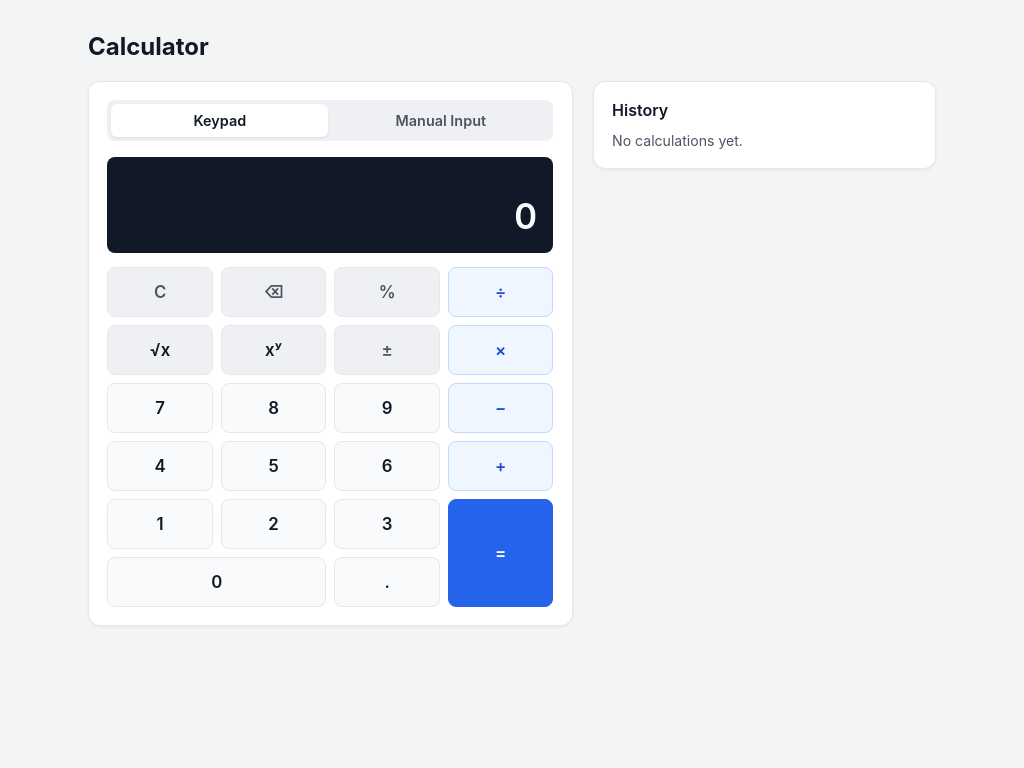
Test case: App › displays backend error message when dividing by zero
This screenshot has width=1024, height=768.
Click the button "7": (160, 408) [107,383,213,433]
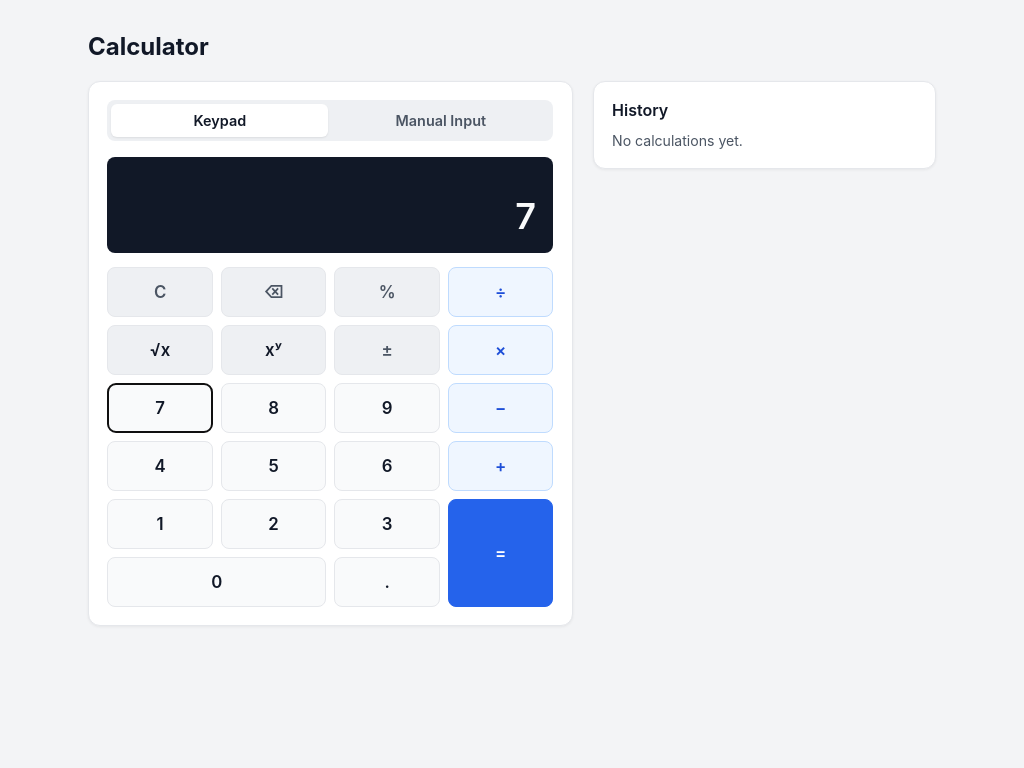
Click the button named "Divide": (501, 292) [448,267,553,317]
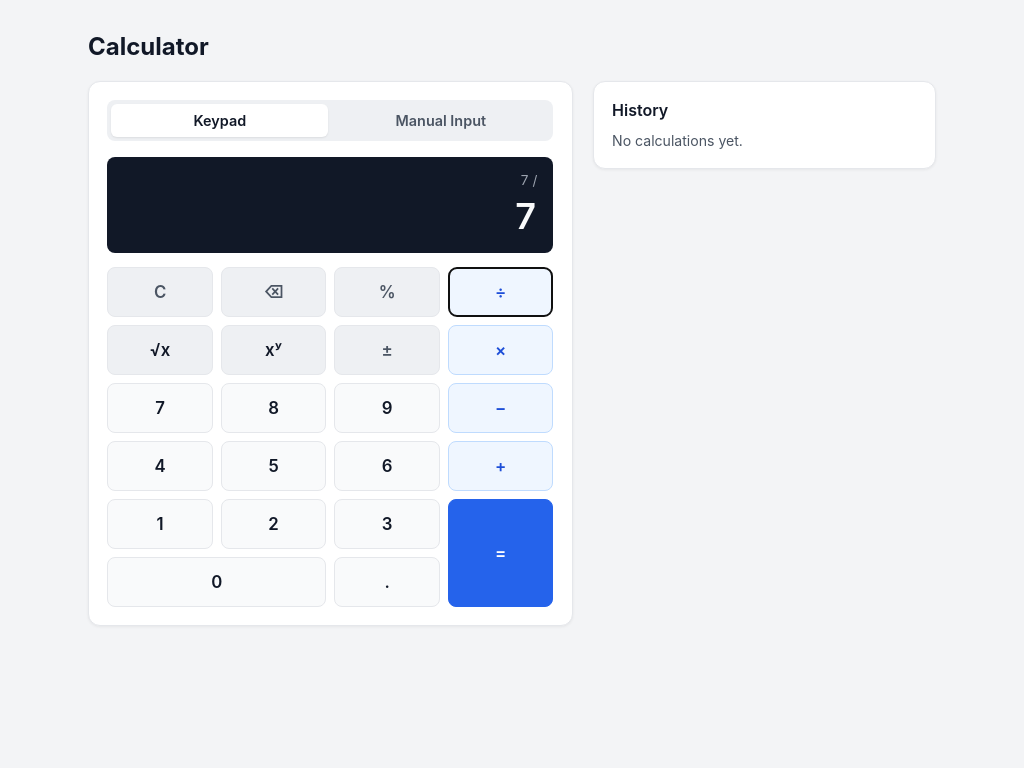
Click the button "0": (217, 582) [107,557,326,607]
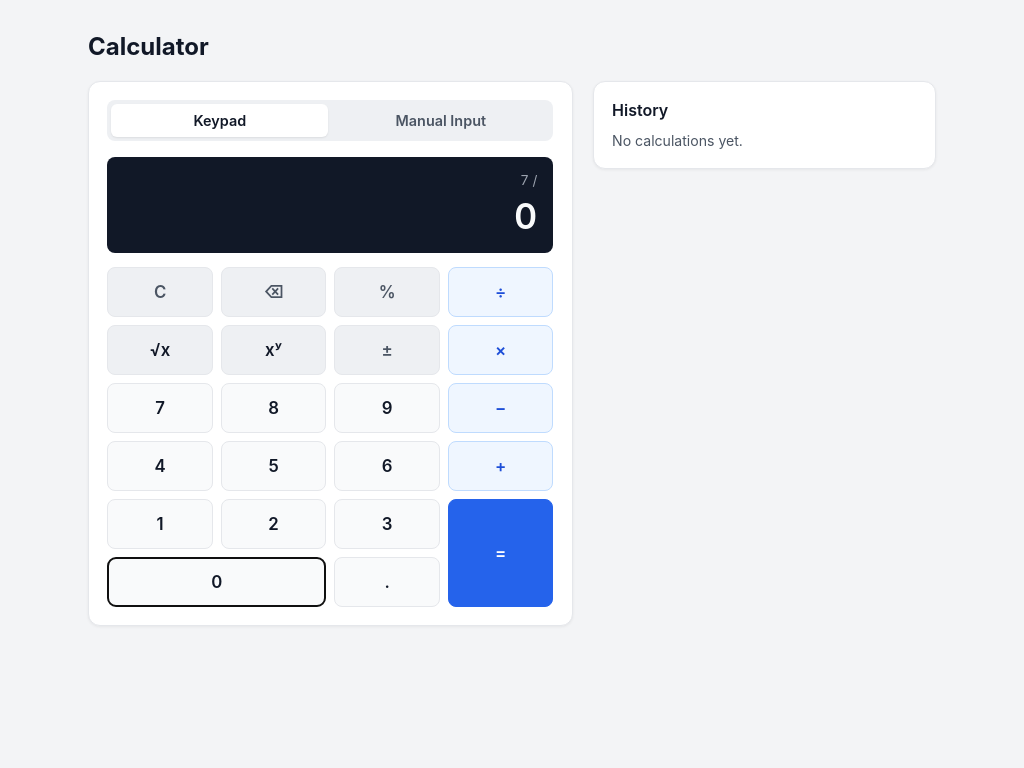
Click the button named "Equals": (501, 553) [448,499,553,607]
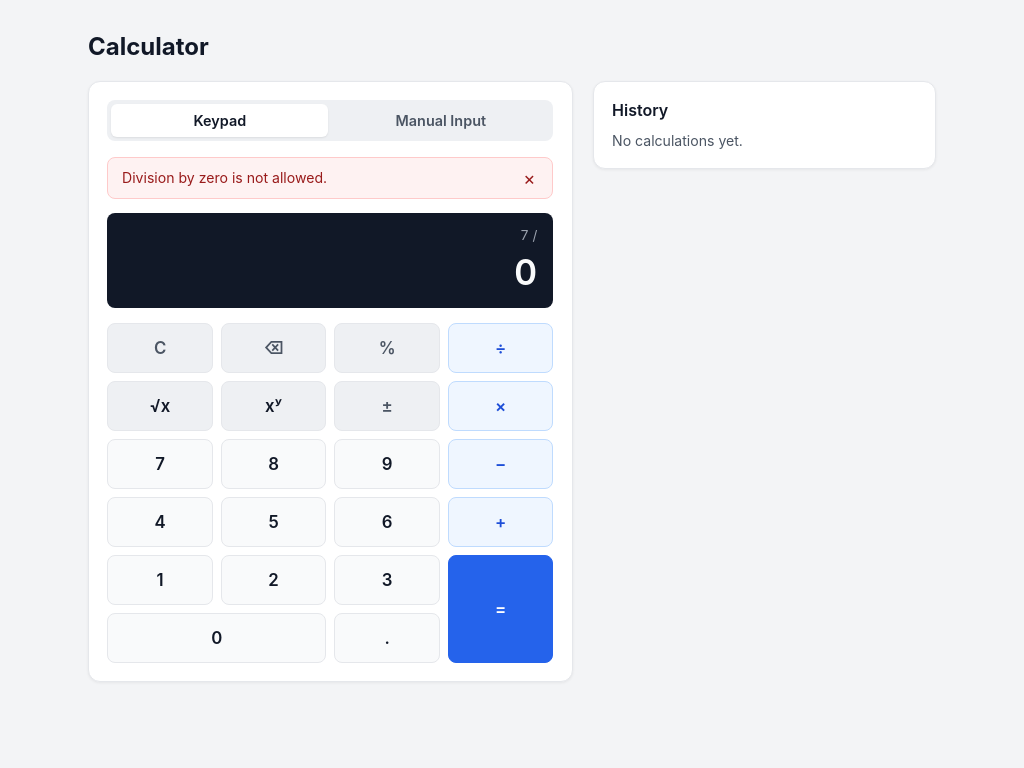
Result: the message shows "Division by zero is not allowed." at [122,170,327,186]
